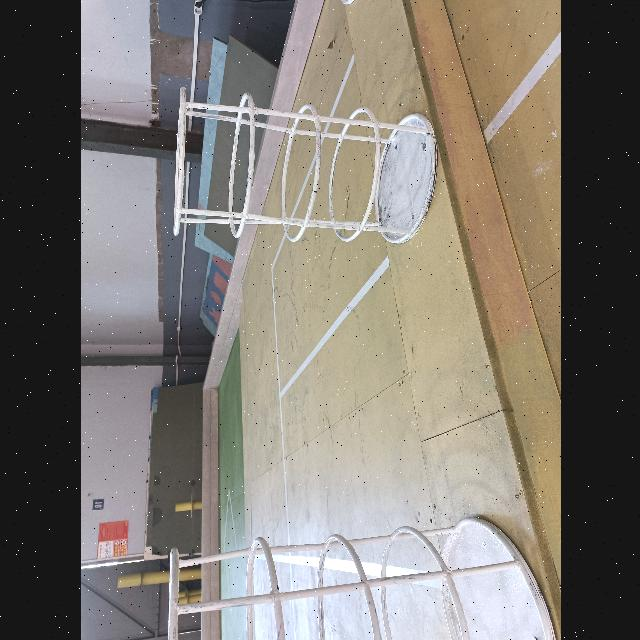S: (168, 515, 556, 640), (170, 85, 437, 245), (314, 0, 355, 6)
